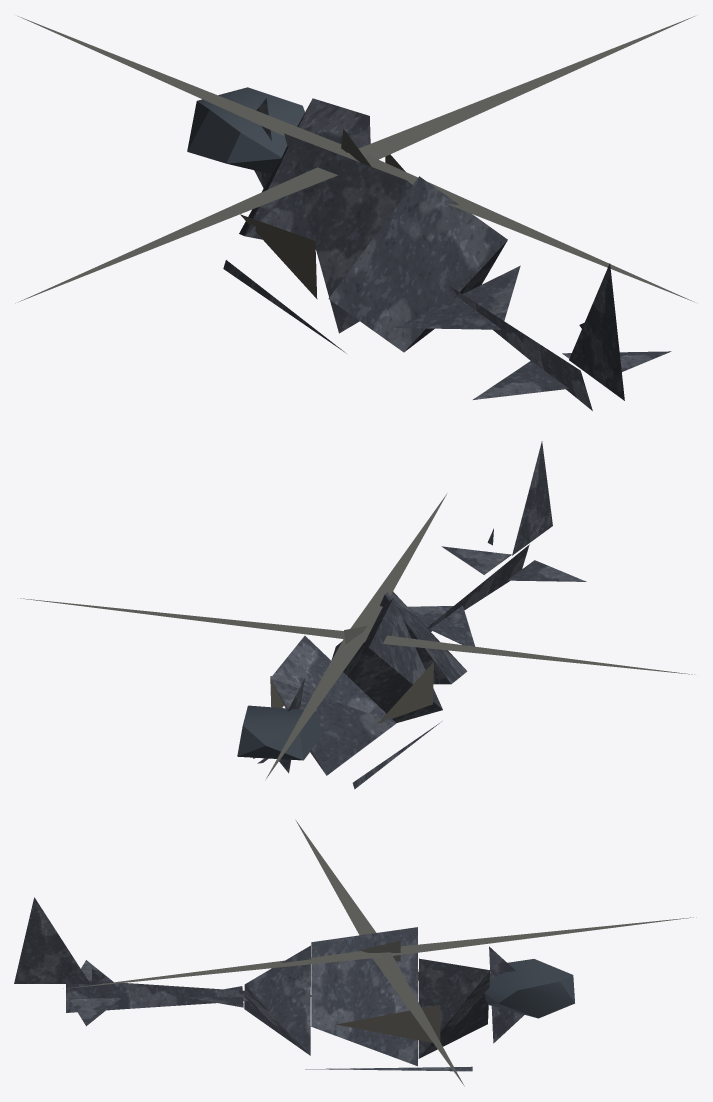
Rendered from hel_e2_us_transport_LOD2.glb.
The picture shows the model from 3 angles, top to bottom: view 1: azimuth 30°, elevation 25°; view 2: azimuth 150°, elevation 25°; view 3: azimuth 270°, elevation 25°; orthographic projection. The views are drawn at different scales.
Parts seen in each view (by area): view 1: hel_e2_us_transport_LOD2_body, hel_e2_us_transport_LOD2_gun, hel_e2_us_transport_LOD2_glass, hel_e2_us_transport_LOD2_deck; view 2: hel_e2_us_transport_LOD2_body, hel_e2_us_transport_LOD2_gun, hel_e2_us_transport_LOD2_glass, hel_e2_us_transport_LOD2_deck; view 3: hel_e2_us_transport_LOD2_body, hel_e2_us_transport_LOD2_gun, hel_e2_us_transport_LOD2_glass, hel_e2_us_transport_LOD2_deck.
Boxes of the visible parts, left/top/right/bottom form: hel_e2_us_transport_LOD2_body: left=223, top=98, right=671, bottom=410; hel_e2_us_transport_LOD2_gun: left=15, top=16, right=697, bottom=303; hel_e2_us_transport_LOD2_glass: left=187, top=87, right=304, bottom=173; hel_e2_us_transport_LOD2_deck: left=240, top=154, right=405, bottom=299; hel_e2_us_transport_LOD2_body: left=253, top=441, right=586, bottom=789; hel_e2_us_transport_LOD2_gun: left=20, top=494, right=694, bottom=780; hel_e2_us_transport_LOD2_glass: left=237, top=705, right=323, bottom=760; hel_e2_us_transport_LOD2_deck: left=270, top=662, right=433, bottom=723; hel_e2_us_transport_LOD2_body: left=14, top=897, right=524, bottom=1071; hel_e2_us_transport_LOD2_gun: left=63, top=819, right=696, bottom=1086; hel_e2_us_transport_LOD2_glass: left=484, top=959, right=574, bottom=1018; hel_e2_us_transport_LOD2_deck: left=336, top=972, right=440, bottom=1042.
Bounding box in the file's own units: 15.84 × 4.24 × 17.01.
Materials: 4 (1 with a texture image).
